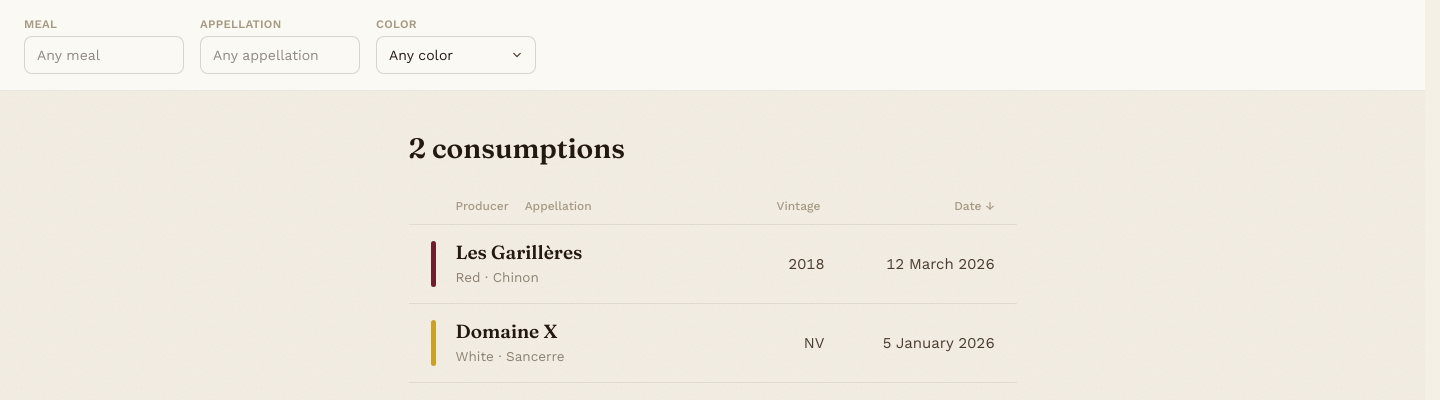
Test: ConsumptionHistoryView sort › sorts by clicking a column header and reflects it in the URL and the request
Click the button with test id "sort-header-producer".
click(484, 206)  # box top-left (456, 198), bottom-right (513, 214)
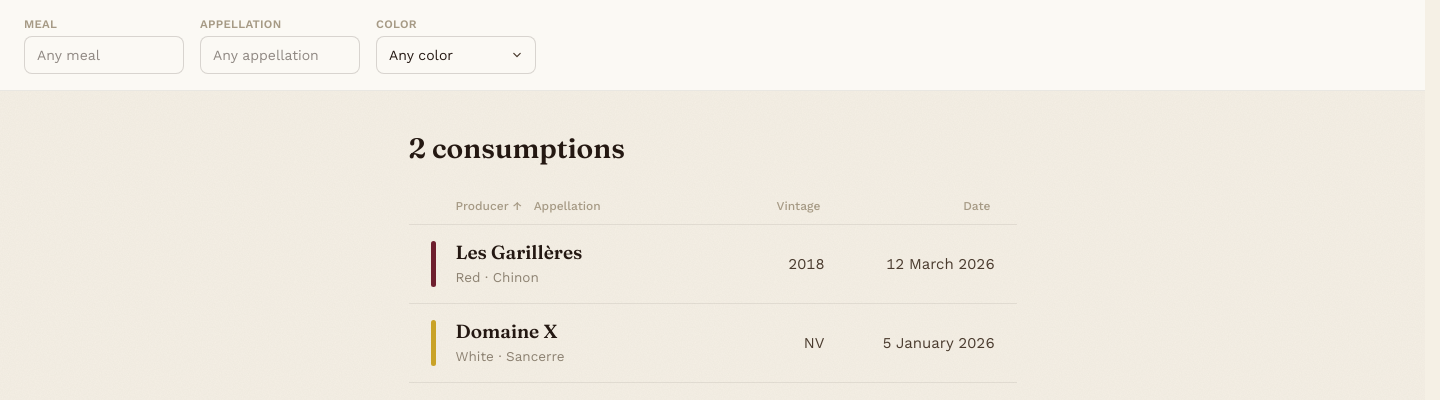
Expected: the button with test id "sort-header-date" is shown, top-left (844, 198), bottom-right (994, 214)
Expected: the button with test id "sort-header-producer" shows "↑", top-left (456, 198), bottom-right (522, 214)
